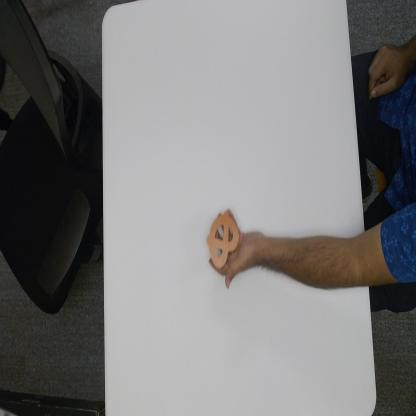Arm: (270, 215, 416, 298)
Hand: (221, 209, 269, 292)
Pretzel: (208, 204, 242, 270)
